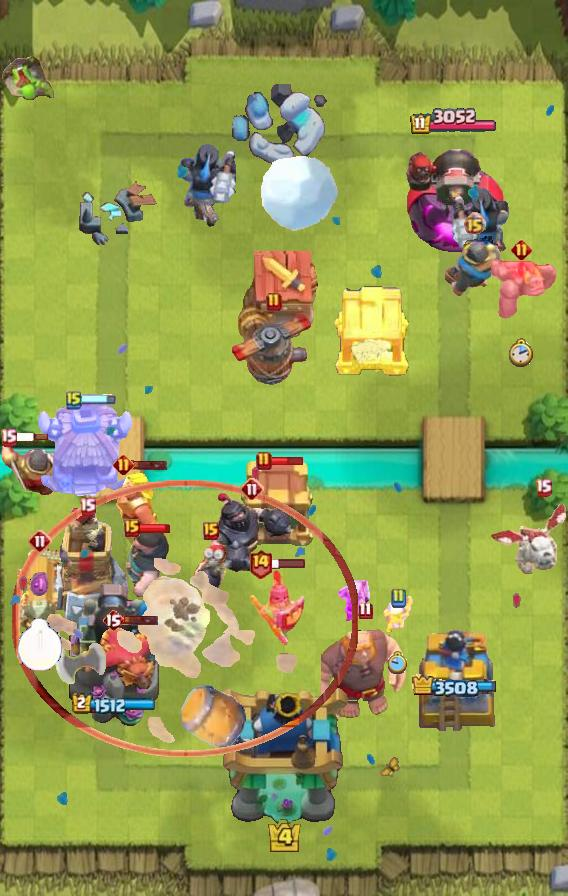balloon: (321, 625, 409, 723)
bar-level: (0, 53, 58, 101)
battle-healer: (17, 549, 63, 633)
bomb: (332, 283, 412, 377), (236, 460, 314, 548)
dark-prince: (225, 309, 323, 391)
dirt: (179, 681, 249, 751)
electro-spirit: (30, 571, 51, 598)
elixir: (17, 618, 63, 672), (509, 338, 534, 368), (388, 650, 408, 673)
emote: (132, 459, 169, 471), (122, 614, 159, 626), (270, 557, 306, 569), (270, 455, 305, 467), (80, 395, 116, 406), (137, 523, 171, 534), (13, 432, 49, 442)
firecracker: (0, 441, 78, 495), (445, 236, 503, 296)
goblin-hut: (117, 470, 160, 548)
heal-spirit: (382, 596, 414, 632)
ice-golem: (193, 540, 229, 598)
inferno-dragon: (450, 187, 512, 277), (179, 141, 239, 231)
king-tower: (216, 684, 352, 826)
mini-pekka: (486, 500, 568, 578)
mother-witch: (62, 623, 192, 697)
prince: (35, 405, 137, 501)
princess: (248, 567, 306, 651)
queen-tower: (403, 621, 503, 731)
royal-ghost: (12, 478, 358, 757)
royal-giant: (55, 643, 107, 703)
royal-guardian: (207, 491, 297, 575)
royal-hog: (110, 524, 172, 598)
selected: (410, 108, 499, 136), (410, 674, 496, 698), (71, 693, 156, 715)
sparky: (238, 250, 324, 348)
text: (247, 548, 272, 579), (240, 477, 264, 501), (28, 529, 52, 553), (462, 212, 485, 236), (102, 608, 124, 632), (511, 239, 532, 261), (114, 453, 135, 475), (266, 292, 282, 312), (66, 390, 82, 410), (256, 451, 272, 471), (390, 588, 406, 608), (536, 479, 553, 497), (80, 497, 97, 515), (0, 428, 16, 447), (124, 519, 140, 537), (203, 522, 219, 540), (359, 601, 373, 620)
tower-bar: (63, 579, 165, 731), (401, 138, 505, 256)
valkyrie-evolution: (486, 255, 556, 321)
wall-breaker: (259, 153, 341, 232)
zap: (338, 577, 376, 623)
zappy: (46, 505, 131, 629)
